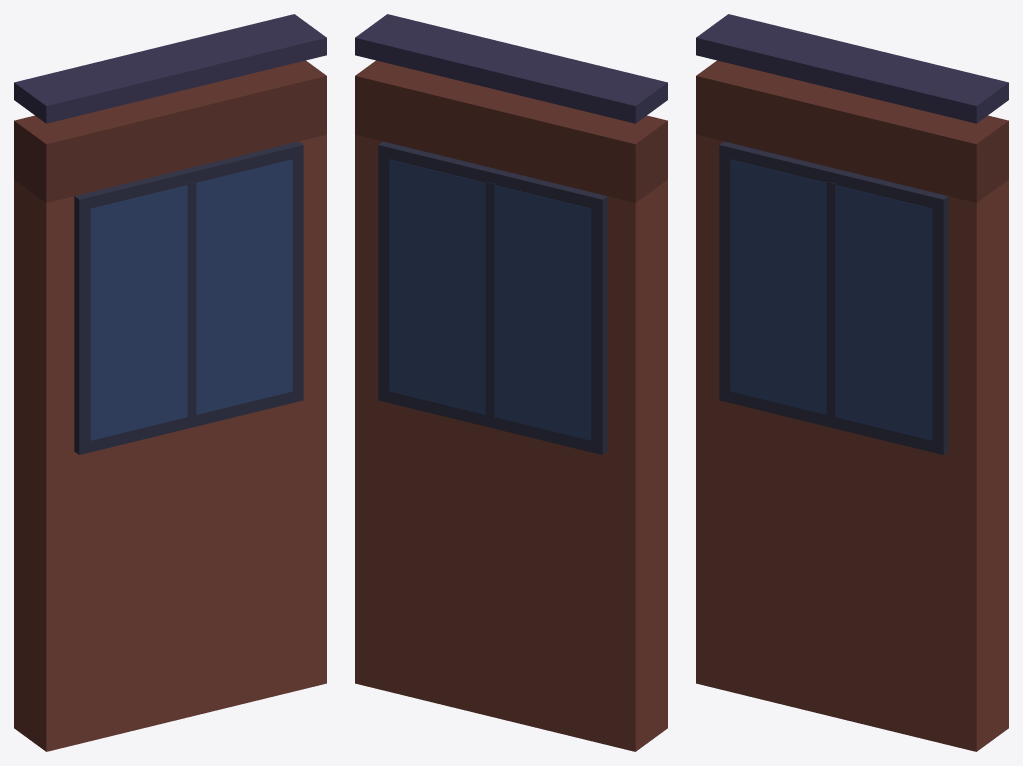
File: raum_wand_fenster.glb
3 views of the same model, side by side, from view 1: azimuth 30°, elevation 25°; view 2: azimuth 150°, elevation 25°; view 3: azimuth 330°, elevation 25° (orthographic).
Visible parts, largest first — view 1: raum_wand_fenster; view 2: raum_wand_fenster; view 3: raum_wand_fenster.
Boxes of the visible parts, x1,y1,x2,y2 form: raum_wand_fenster: (14, 14, 326, 751); raum_wand_fenster: (355, 14, 667, 751); raum_wand_fenster: (696, 14, 1008, 751).
Bounding box in the file's own units: 1 × 2.2 × 0.265.
